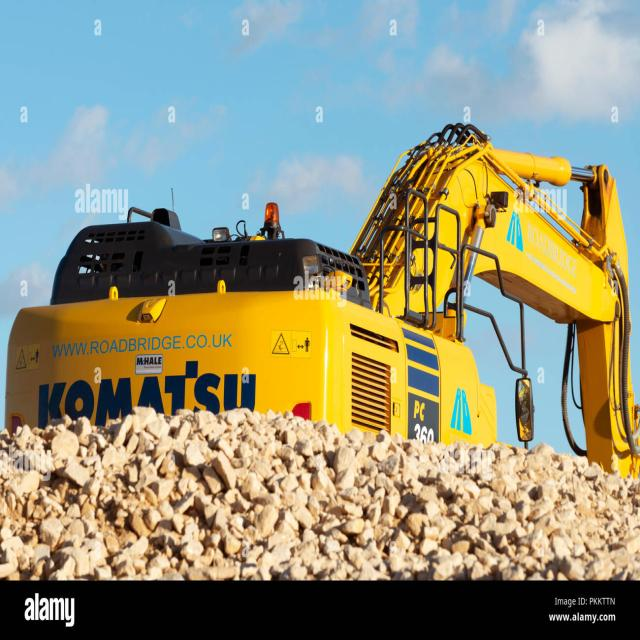excavator: (24, 120, 637, 473)
